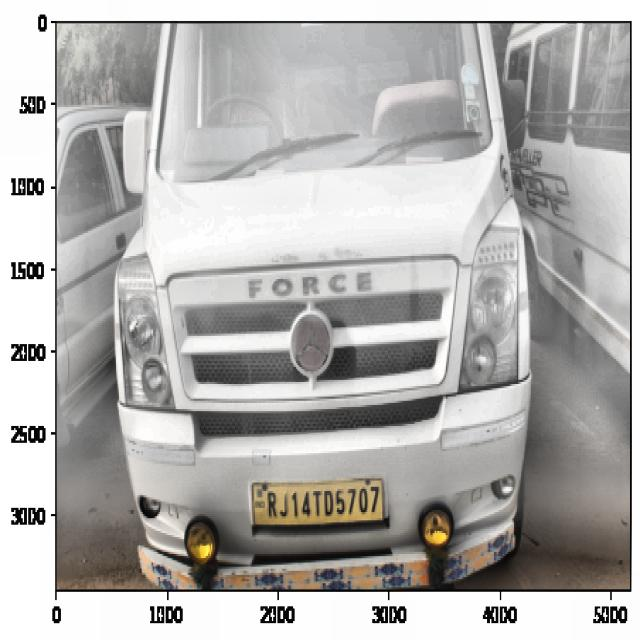license_plate: (260, 478, 382, 528)
